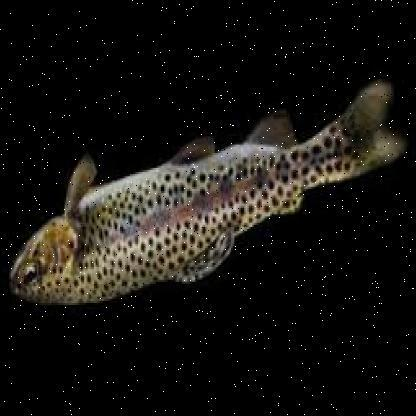fish: (9, 89, 402, 308)
